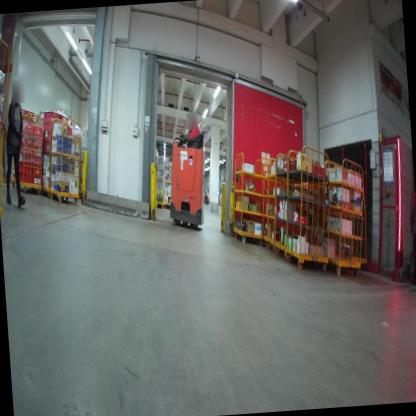pallet_truck: (162, 129, 216, 235)
